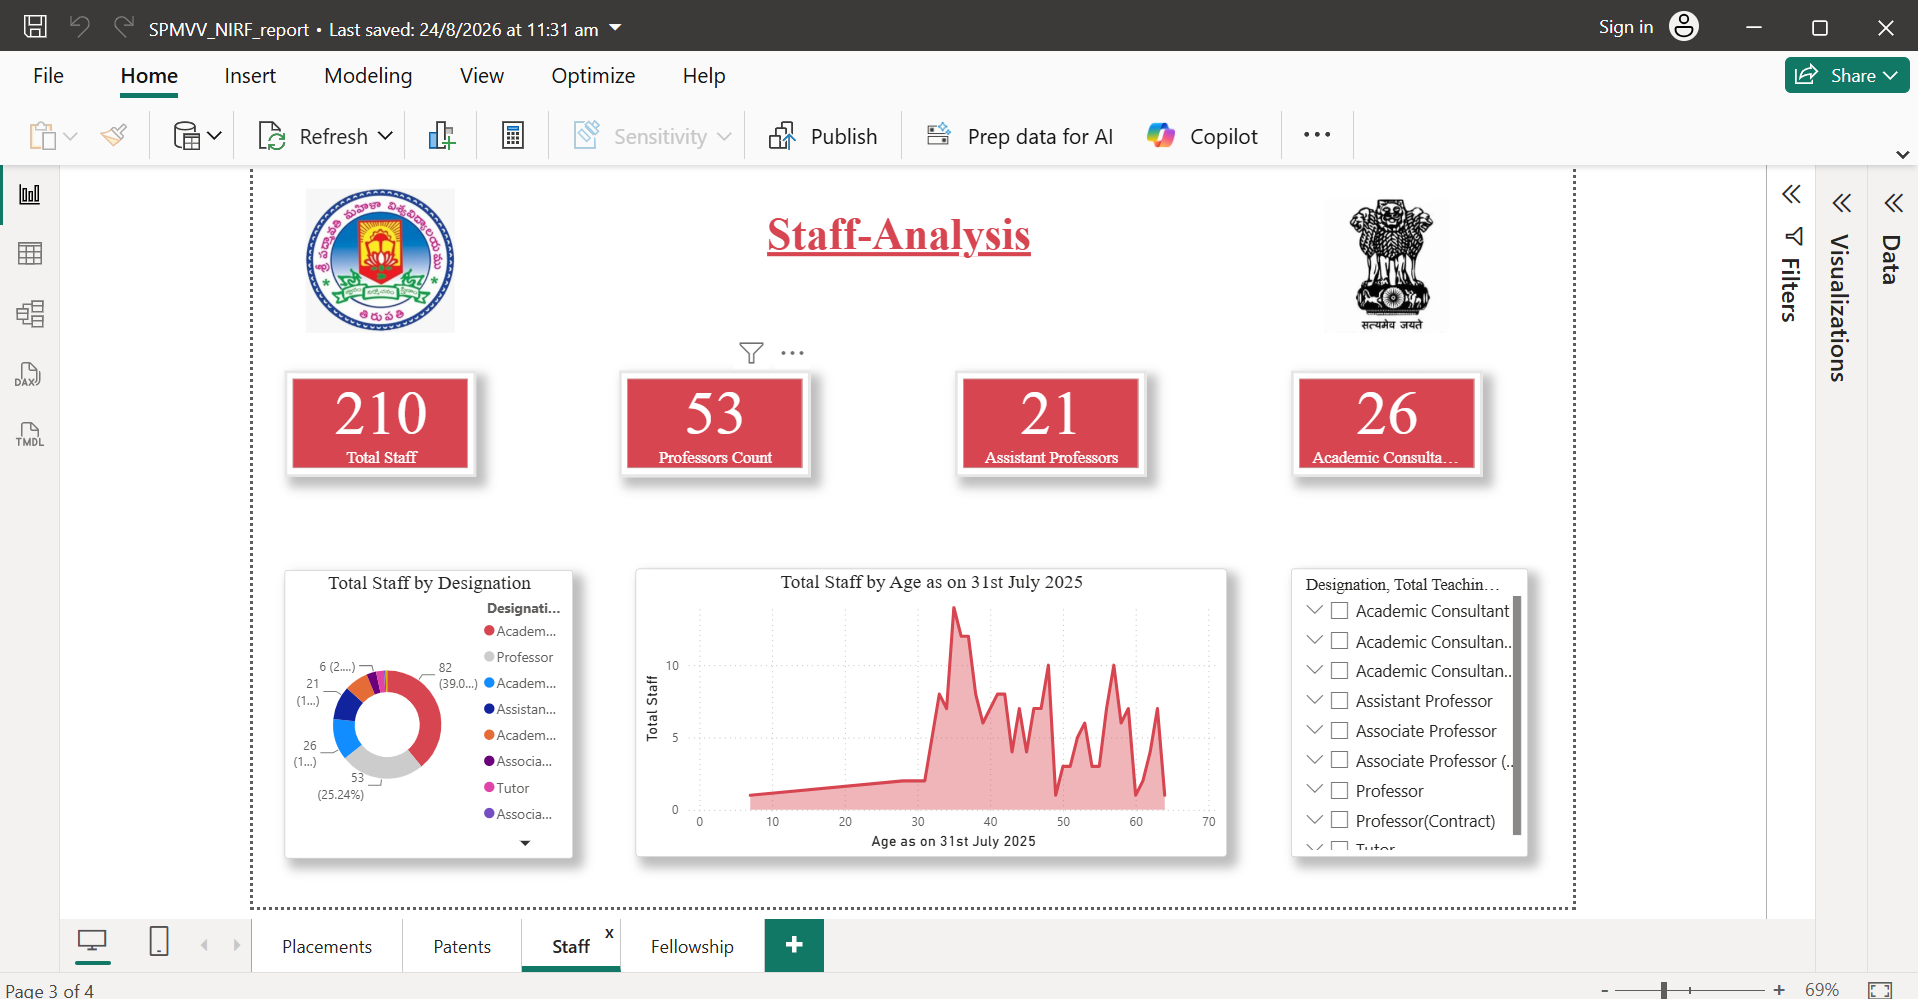

Layout of this report page (visuals, bound fields, positions):
{"tool":"powerbi","page":{"name":"Staff","canvas":[1280,720],"ordinal":2},"visuals":[{"type":"cardVisual","fields":{"Data":["Staff.Total Staff"]},"box":[30.3,199.9,186.2,103],"z":0},{"type":"cardVisual","fields":{"Data":["Staff.Academic Consultant Count"]},"box":[1006.9,199.9,186.2,103],"z":1000},{"type":"cardVisual","fields":{"Data":["Staff.Assistant Professors"]},"box":[681.4,199.9,186.2,103],"z":2000},{"type":"cardVisual","fields":{"Data":["Staff.Professors Count"]},"box":[355.8,199.9,186.2,103],"z":3000},{"type":"donutChart","fields":{"Category":["Staff.Academic Designation"],"Y":["Staff.Total Staff"]},"box":[30.3,392.3,280,280],"z":4000},{"type":"areaChart","fields":{"Category":["Staff.Age as on 31st July 2025"],"Y":["Staff.Total Staff"]},"box":[371.7,392.2,573.9,280.1],"z":5000},{"type":"slicer","fields":{"Values":["Staff.Academic Designation","Staff.Total Teaching Experience(In Months) as on 31st July 2025"]},"box":[1006.9,392.2,230.2,280.1],"z":6000},{"type":"textbox","box":[451.2,37.9,351.3,93.9],"z":7000},{"type":"image","box":[30.3,18.2,186,150],"z":8000},{"type":"image","box":[1006.9,18.2,186,150],"z":9000}]}

Visuals, with their boxes on the page's 1280x720 design canvas (x1, y1, x2, y2). These are canvas units, not pixel positions in the 1918x999 screenshot, which may show the page scaled, cropped or inside an application window:
cardVisual - Staff.Total Staff: {"left": 30, "top": 200, "right": 216, "bottom": 303}
cardVisual - Staff.Academic Consultant Count: {"left": 1007, "top": 200, "right": 1193, "bottom": 303}
cardVisual - Staff.Assistant Professors: {"left": 681, "top": 200, "right": 868, "bottom": 303}
cardVisual - Staff.Professors Count: {"left": 356, "top": 200, "right": 542, "bottom": 303}
donutChart - Staff.Academic Designation x Staff.Total Staff: {"left": 30, "top": 392, "right": 310, "bottom": 672}
areaChart - Staff.Age as on 31st July 2025 x Staff.Total Staff: {"left": 372, "top": 392, "right": 946, "bottom": 672}
slicer - Staff.Academic Designation x Staff.Total Teaching Experience(In Months) as on 31st July 2025: {"left": 1007, "top": 392, "right": 1237, "bottom": 672}
textbox: {"left": 451, "top": 38, "right": 802, "bottom": 132}
image: {"left": 30, "top": 18, "right": 216, "bottom": 168}
image: {"left": 1007, "top": 18, "right": 1193, "bottom": 168}
